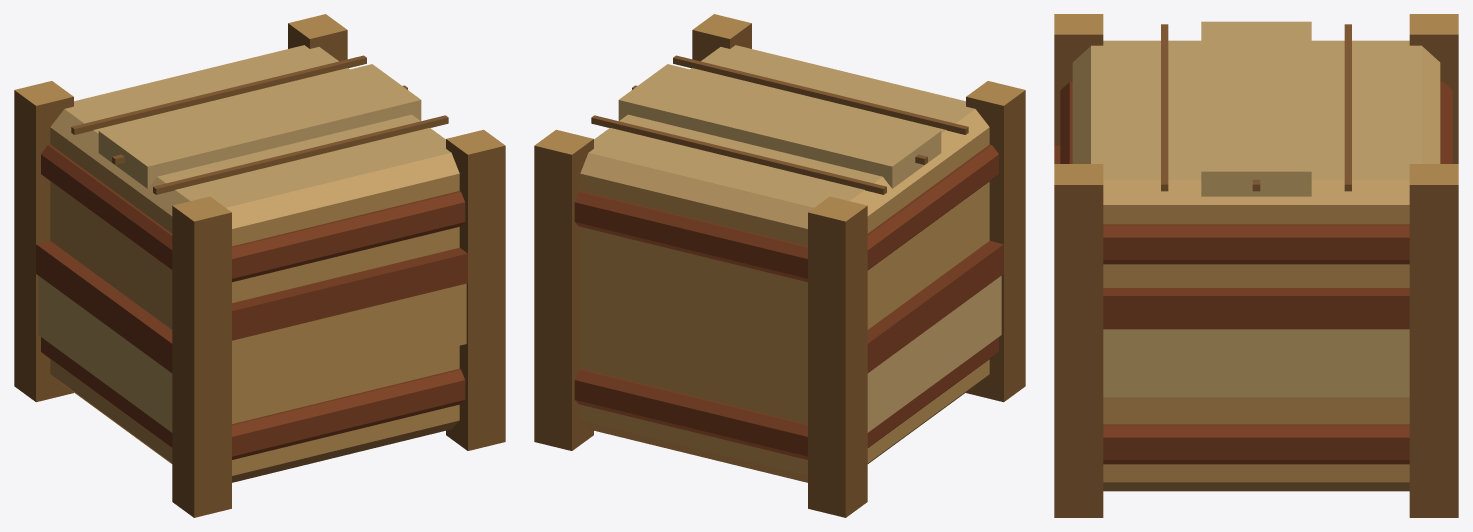
The model's file is caisse.glb.
3 renders of one model, left to right at view 1: azimuth 30°, elevation 25°; view 2: azimuth 150°, elevation 25°; view 3: azimuth 270°, elevation 25°, orthographic. The views are drawn at different scales.
Visible parts, largest first — view 1: corps.016, eclat_1.002, eclat_3.002, eclat_4.002; view 2: corps.016, eclat_3.002, eclat_4.002; view 3: corps.016, eclat_2.002, eclat_3.002.
Boxes of the visible parts, left/top/right/bottom form: corps.016: left=14, top=14, right=505, bottom=517; eclat_1.002: left=232, top=247, right=467, bottom=400; eclat_3.002: left=98, top=64, right=421, bottom=188; eclat_4.002: left=36, top=241, right=172, bottom=432; corps.016: left=534, top=14, right=1025, bottom=517; eclat_3.002: left=618, top=64, right=941, bottom=188; eclat_4.002: left=867, top=241, right=1003, bottom=432; corps.016: left=1054, top=14, right=1458, bottom=517; eclat_2.002: left=1103, top=288, right=1409, bottom=397; eclat_3.002: left=1201, top=21, right=1311, bottom=196.
Bounding box in the file's own units: 0.66 × 0.605 × 0.66.
